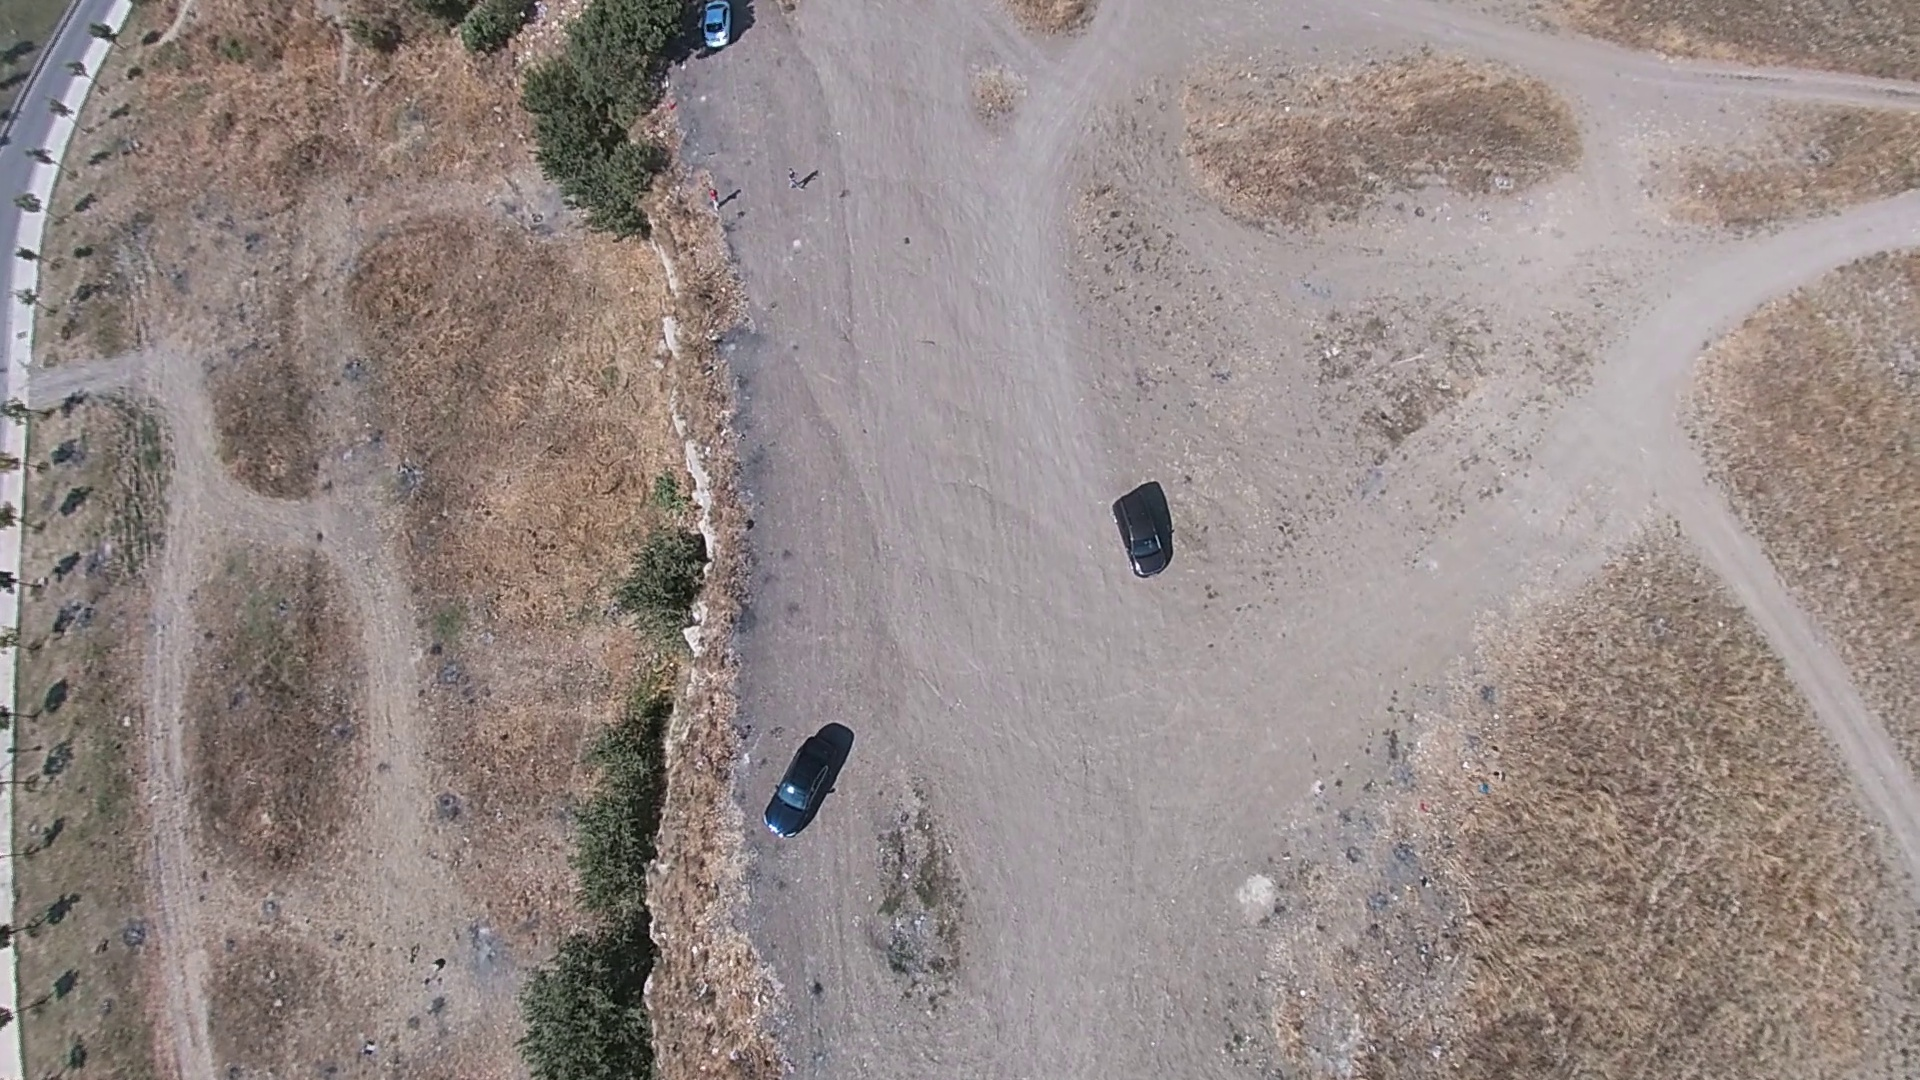arac: (756, 724, 849, 835), (1110, 481, 1169, 575)
insan: (697, 3, 731, 48), (704, 185, 732, 213), (781, 172, 805, 189)
